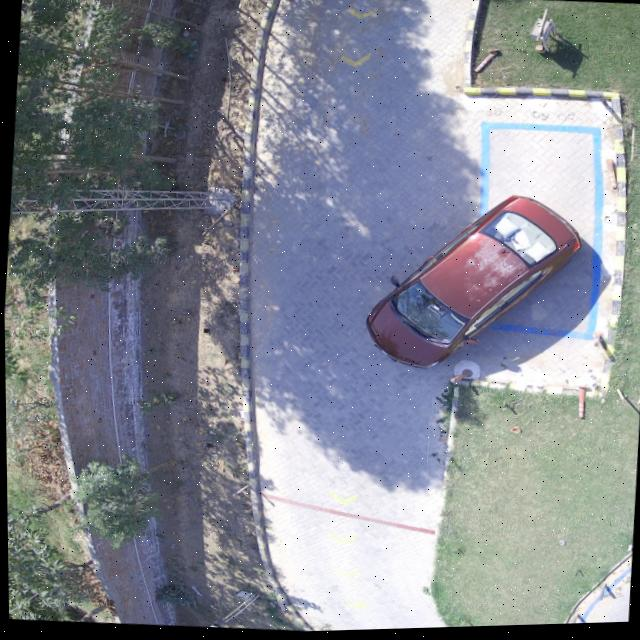car: (365, 197, 579, 369)
